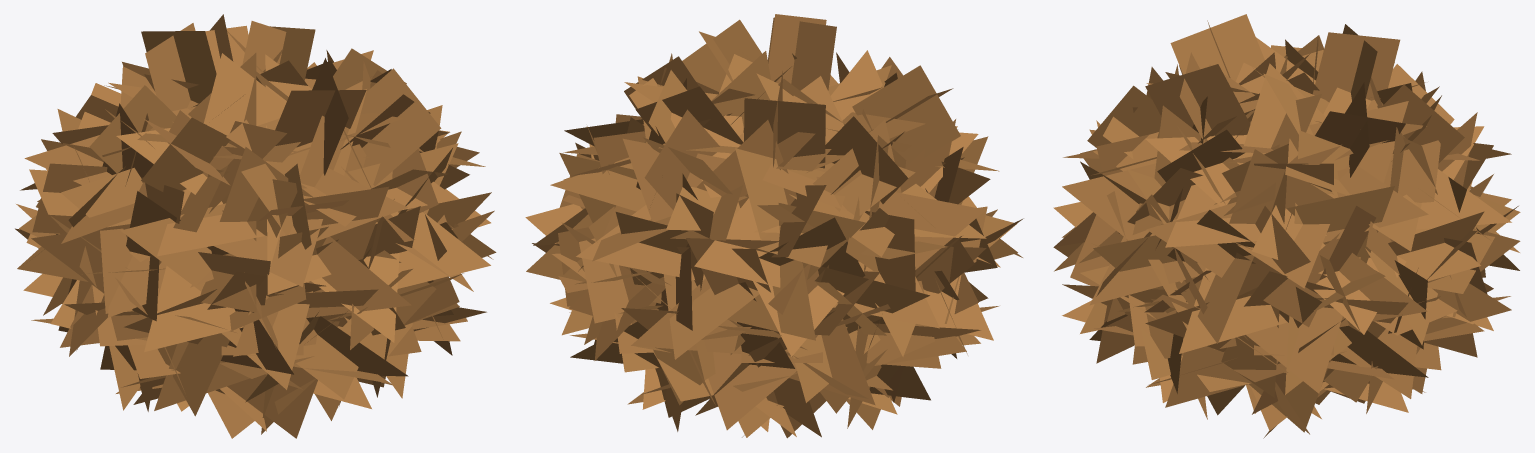
Rendered from Shrub_Green.glb.
The picture shows the model from 3 angles, left to right: view 1: azimuth 30°, elevation 25°; view 2: azimuth 150°, elevation 25°; view 3: azimuth 270°, elevation 25°; orthographic projection. The views are drawn at different scales.
Parts seen in each view (by area): view 1: Shrub_Green; view 2: Shrub_Green; view 3: Shrub_Green.
Part boxes in pixels (box(x1,y1,x2,y2)): Shrub_Green: box(15, 14, 496, 438); Shrub_Green: box(525, 14, 1023, 438); Shrub_Green: box(1053, 14, 1520, 438).
Size of the model in its own units: 0.8782 by 0.7339 by 0.8557.
